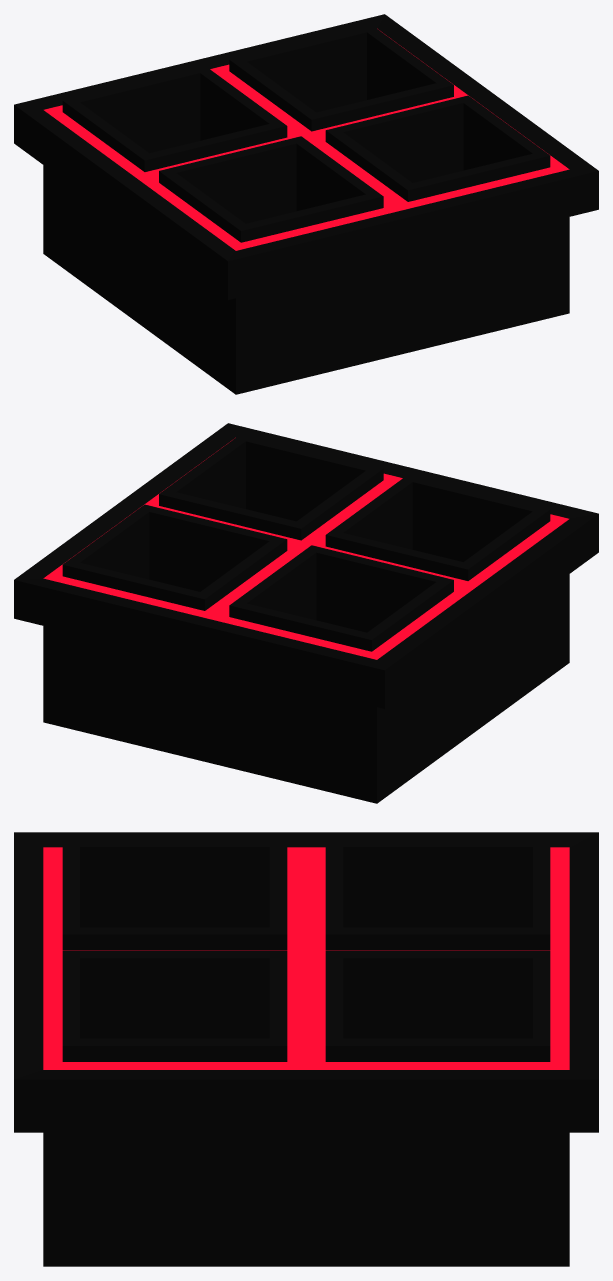
The model's file is SpikeTile.fbx.
3 views of the same model, one above another, from view 1: azimuth 30°, elevation 25°; view 2: azimuth 150°, elevation 25°; view 3: azimuth 270°, elevation 25° (orthographic). The views are drawn at different scales.
Parts seen in each view (by area): view 1: DiscoTile; view 2: DiscoTile; view 3: DiscoTile.
Part boxes in pixels (left/top/right/bottom): DiscoTile: left=14, top=14, right=598, bottom=394; DiscoTile: left=14, top=423, right=598, bottom=803; DiscoTile: left=14, top=832, right=598, bottom=1266.
Size of the model in its own units: 100 by 40.07 by 100.
